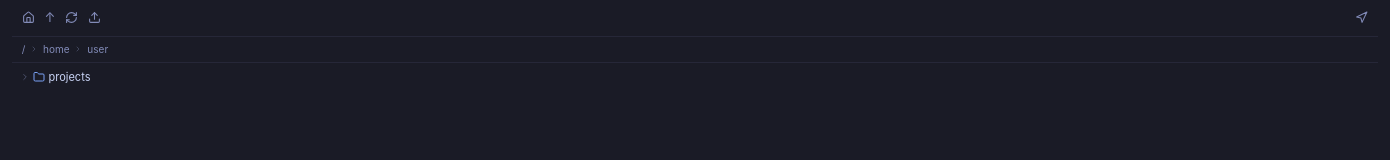
Scenario: RemoteFileBrowser › expands a directory to load its children on click
Click the button "projects".
click(69, 77)  # box 12,66 -> 1378,88
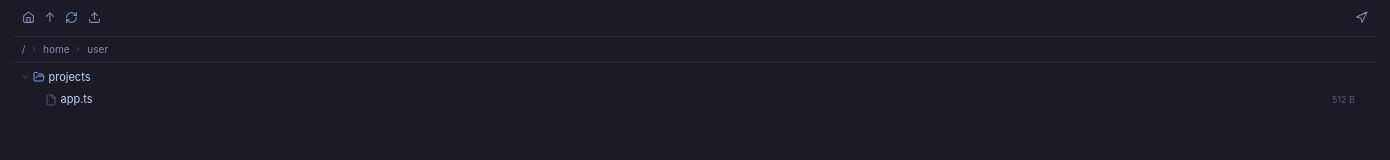
Now the text "app.ts" is shown, box 60,92 -> 93,106
